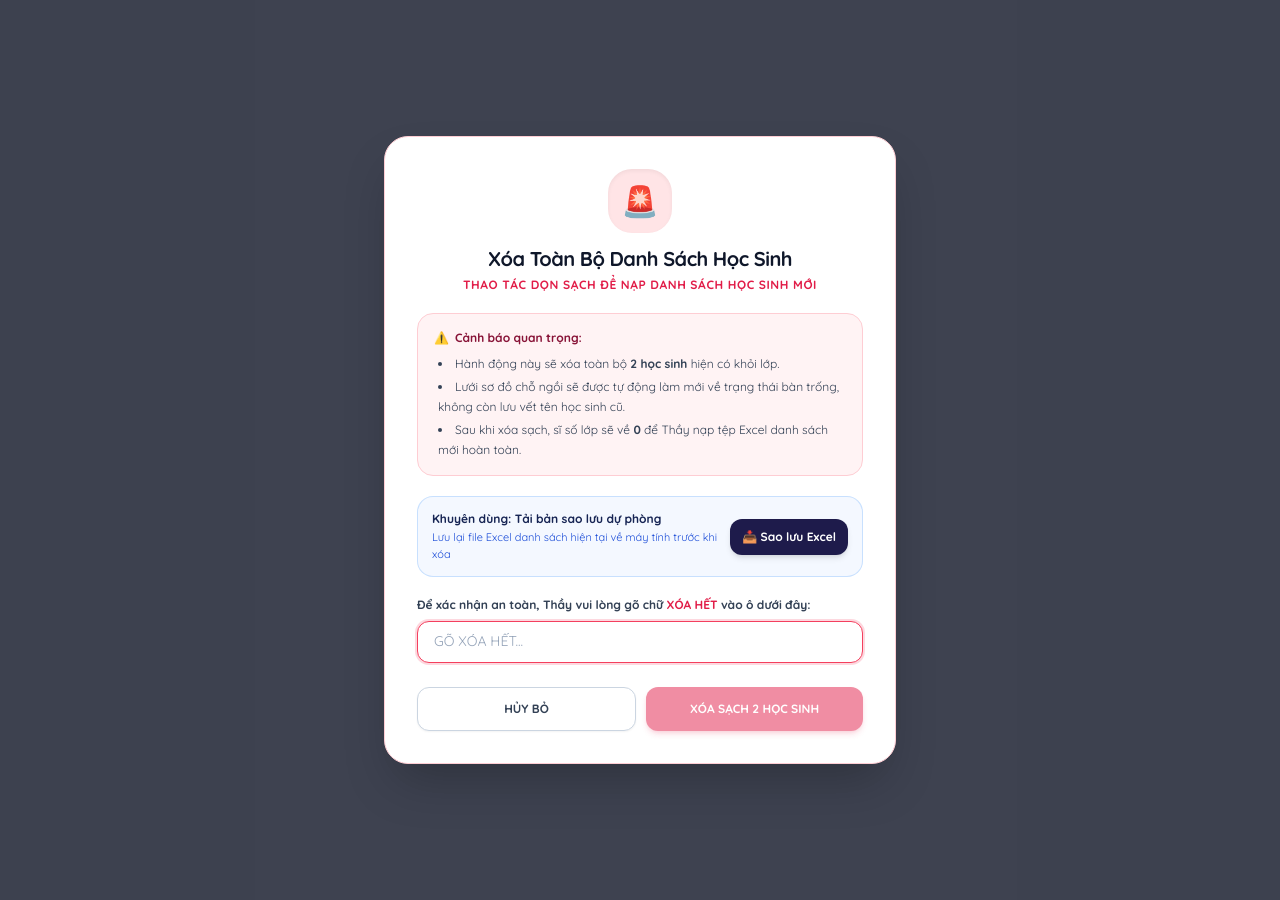
Test: DeleteAllStudentsModal Tests › gọi hàm sao lưu Excel khi bấm nút Sao lưu Excel
The image size is (1280, 900).
What coordinates should you click on to do the following:
click the button "📥 Sao lưu Excel"
I would click on:
 (789, 537)
Its box is x1=730 y1=519 x2=848 y2=555.
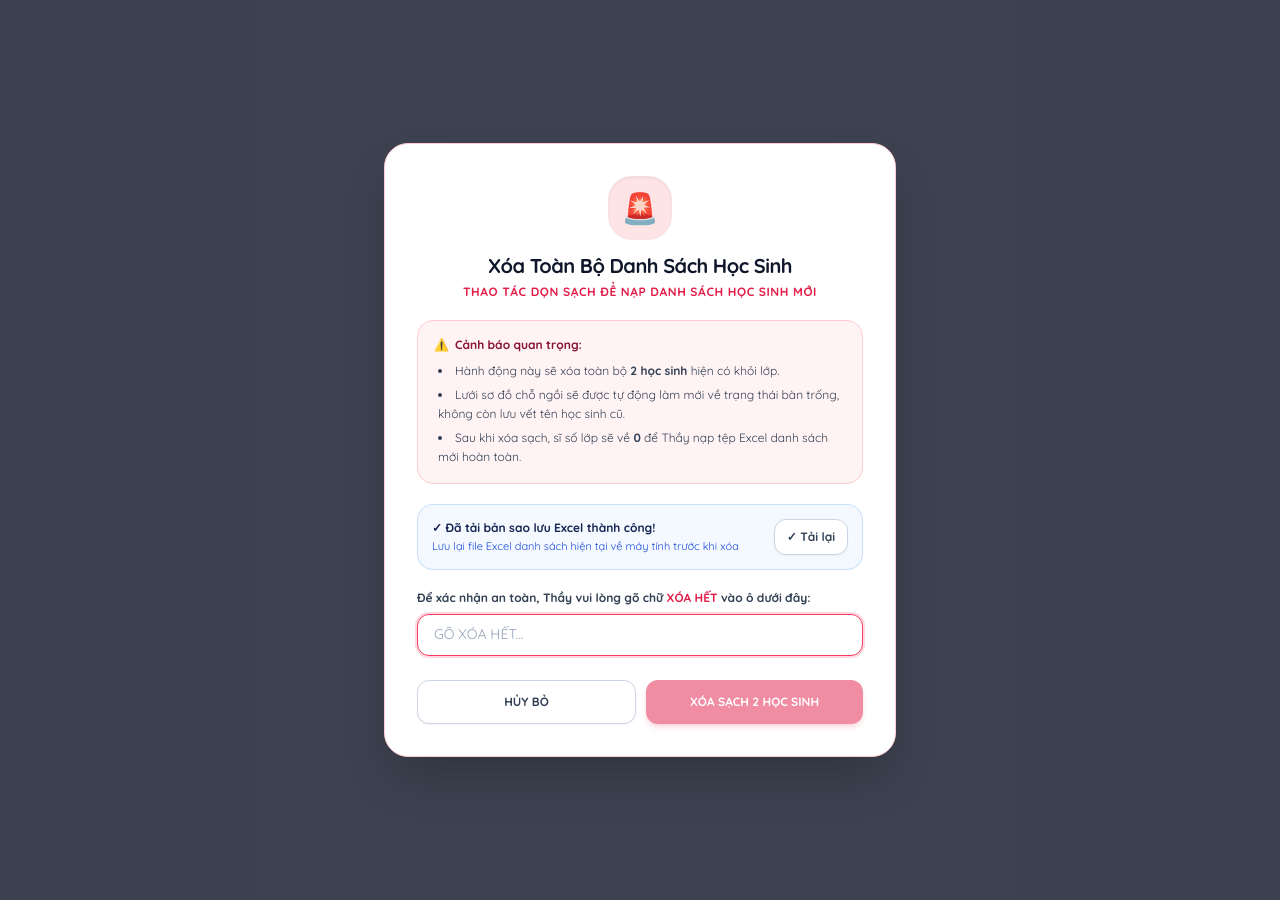
Check: the text "✓ Đã tải bản sao lưu Excel thành công!" is shown, box x1=432 y1=520 x2=656 y2=534
